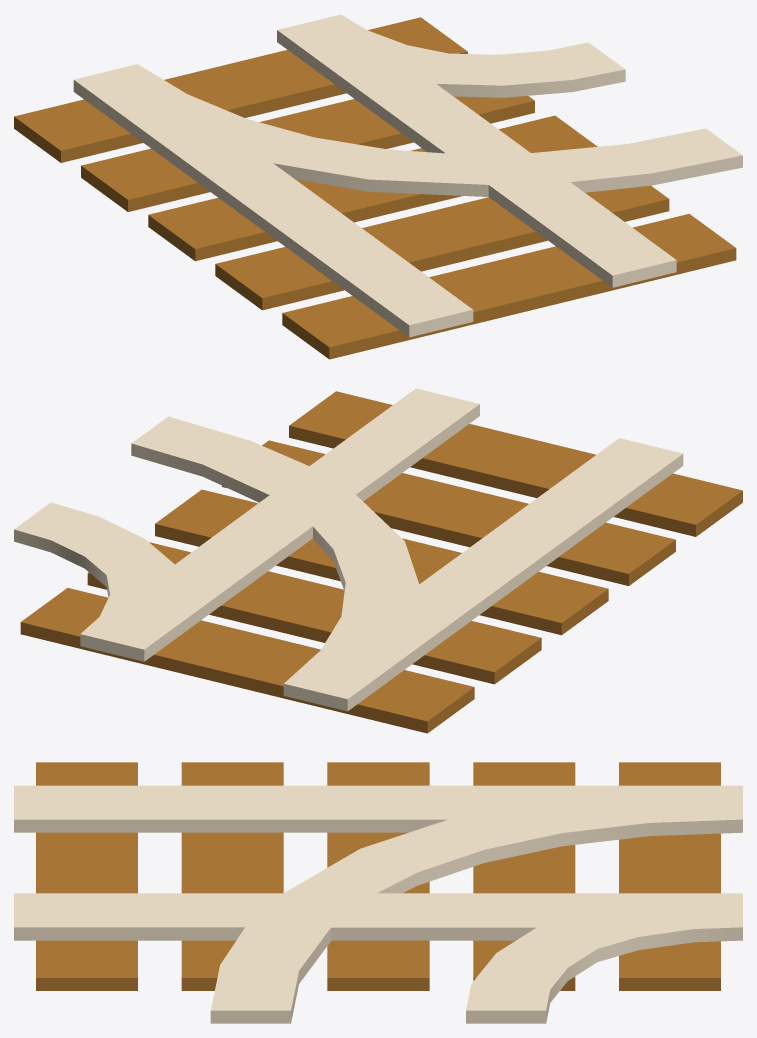
File: IndestructibleRailSwitchLeft.fbx
3 renders of one model, top to bottom at view 1: azimuth 30°, elevation 25°; view 2: azimuth 150°, elevation 25°; view 3: azimuth 270°, elevation 25°, orthographic. The views are drawn at different scales.
Visible parts, largest first — view 1: Rail_Szyny_SwitchLeft, Rail_Track_SwitchLeft__2_, Rail_Track_SwitchLeft__1_, Rail_Track_SwitchLeft__4_, Rail_Track_SwitchLeft__3_, Rail_Track_SwitchLeft; view 2: Rail_Szyny_SwitchLeft, Rail_Track_SwitchLeft__4_, Rail_Track_SwitchLeft__2_, Rail_Track_SwitchLeft__1_, Rail_Track_SwitchLeft__3_, Rail_Track_SwitchLeft; view 3: Rail_Szyny_SwitchLeft, Rail_Track_SwitchLeft__2_, Rail_Track_SwitchLeft__4_, Rail_Track_SwitchLeft__1_, Rail_Track_SwitchLeft, Rail_Track_SwitchLeft__3_.
Part boxes in pixels (<box>): Rail_Szyny_SwitchLeft: <box>73,14,742,337</box>; Rail_Track_SwitchLeft__2_: <box>282,214,736,359</box>; Rail_Track_SwitchLeft__1_: <box>215,185,669,310</box>; Rail_Track_SwitchLeft__4_: <box>14,17,467,162</box>; Rail_Track_SwitchLeft__3_: <box>81,96,534,211</box>; Rail_Track_SwitchLeft: <box>148,115,597,261</box>; Rail_Szyny_SwitchLeft: <box>14,388,683,711</box>; Rail_Track_SwitchLeft__4_: <box>20,588,474,733</box>; Rail_Track_SwitchLeft__2_: <box>289,391,742,536</box>; Rail_Track_SwitchLeft__1_: <box>222,440,675,585</box>; Rail_Track_SwitchLeft__3_: <box>87,542,541,684</box>; Rail_Track_SwitchLeft: <box>155,489,608,635</box>; Rail_Szyny_SwitchLeft: <box>14,785,742,1023</box>; Rail_Track_SwitchLeft__2_: <box>36,762,137,990</box>; Rail_Track_SwitchLeft__4_: <box>619,762,720,990</box>; Rail_Track_SwitchLeft__1_: <box>181,762,283,990</box>; Rail_Track_SwitchLeft: <box>327,762,429,990</box>; Rail_Track_SwitchLeft__3_: <box>473,762,575,990</box>.
Bounding box in the file's own units: 85 × 4.05 × 100.
